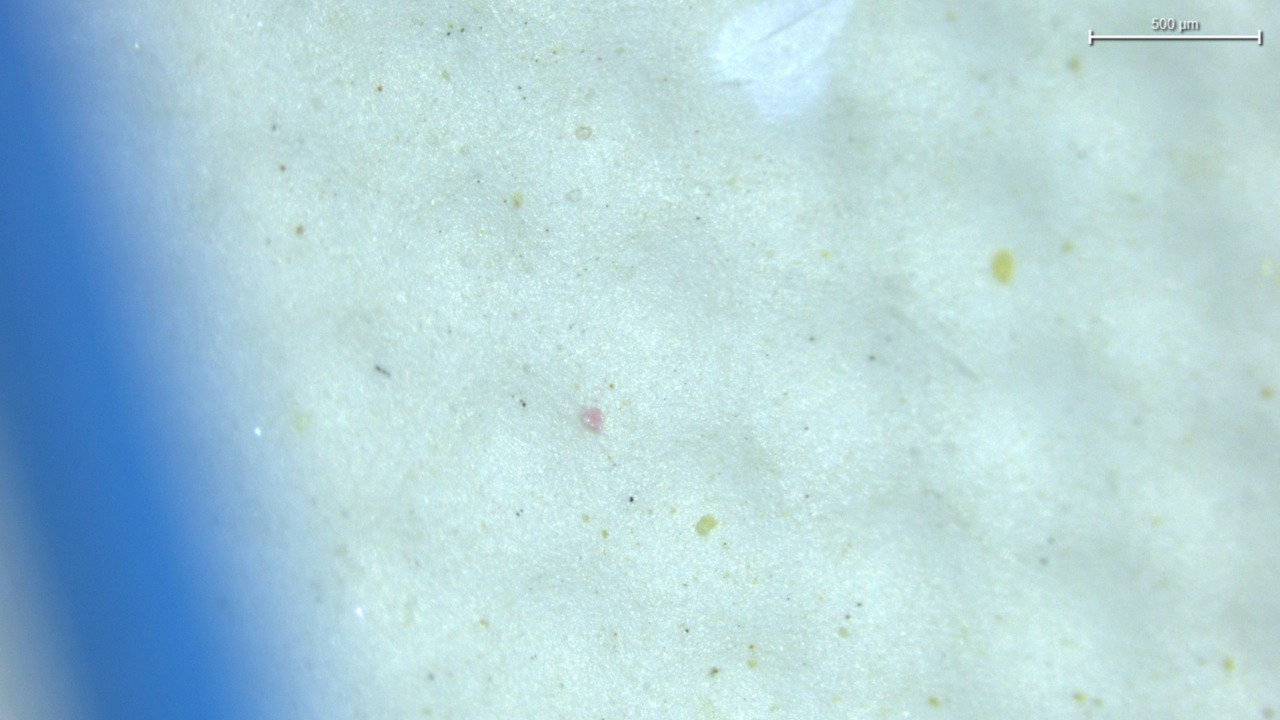microplastic_fragment: (581, 408, 602, 432)
